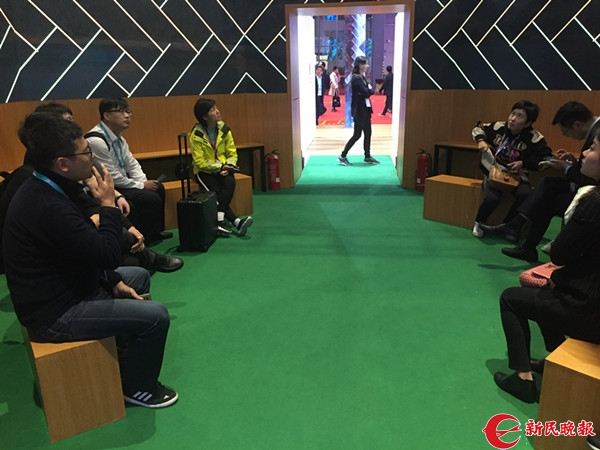handsup: (7, 120, 193, 418)
other: (464, 82, 568, 240), (183, 91, 267, 241), (336, 52, 389, 171)
